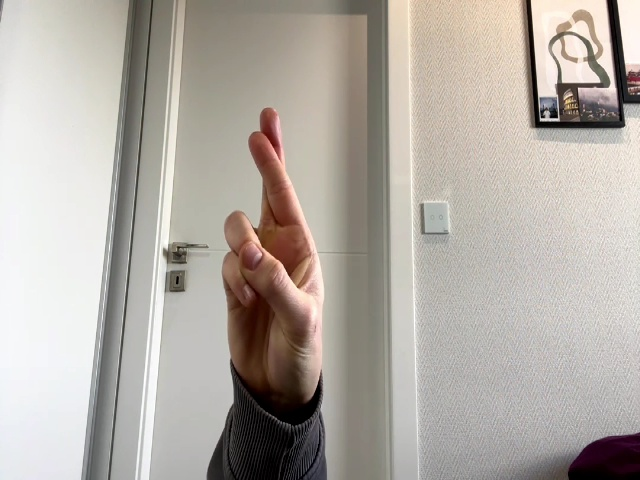R: (223, 108, 324, 395)
